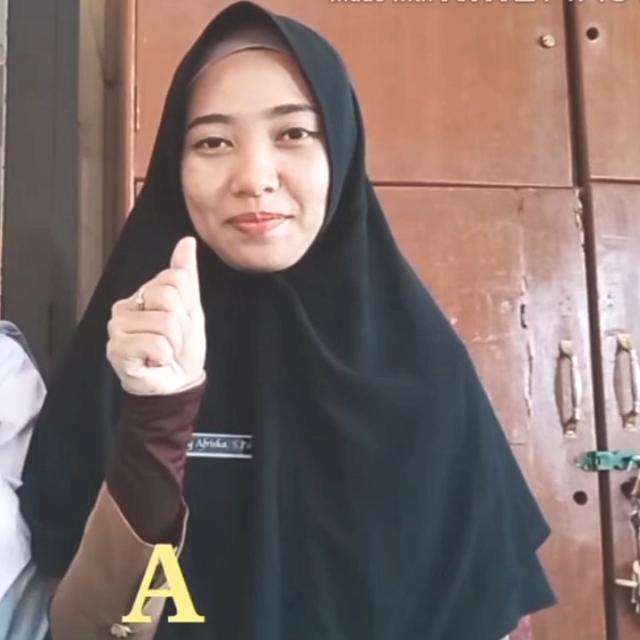A: (101, 232, 215, 406)
